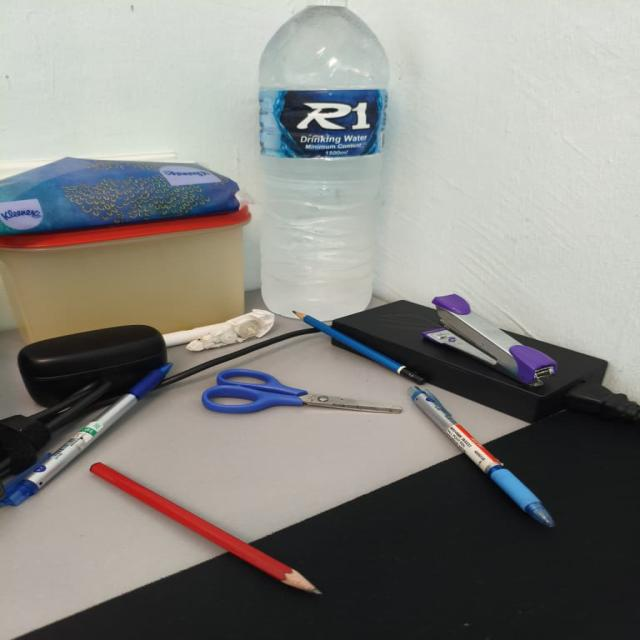pen: (0, 364, 171, 505), (408, 386, 553, 526)
pencil: (90, 463, 319, 592), (293, 311, 423, 384)
scissor: (202, 369, 401, 414)
stapler: (422, 294, 557, 386)
